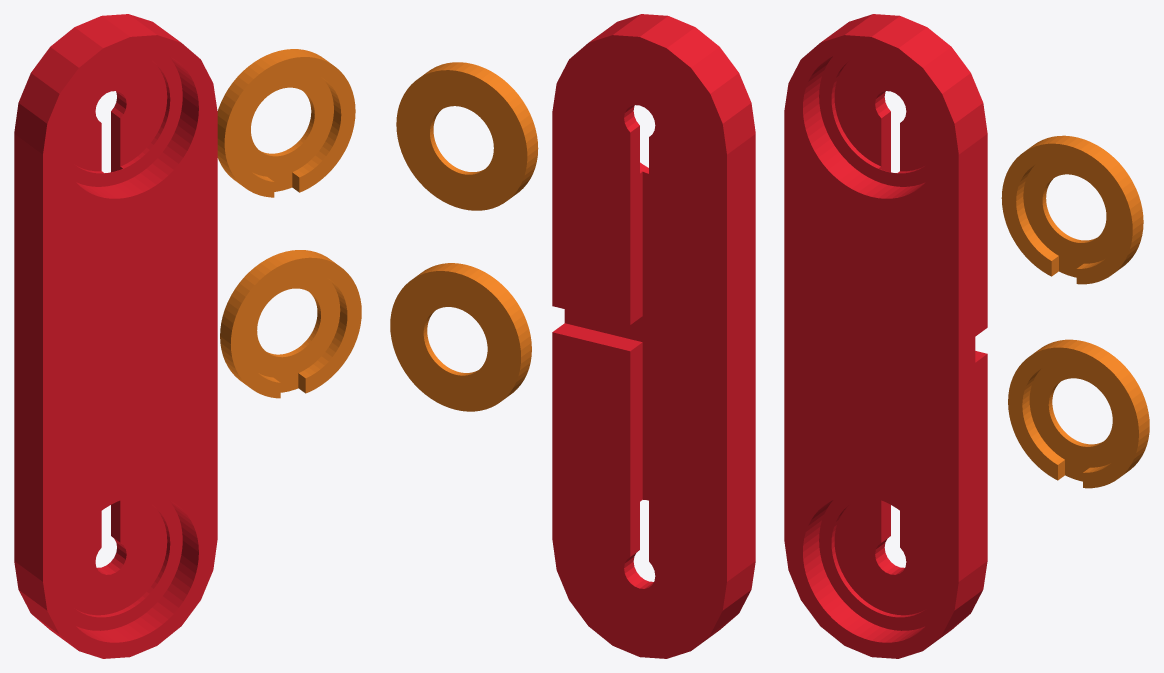
Rendered from tinker.obj.
3 renders of one model, left to right at view 1: azimuth 30°, elevation 25°; view 2: azimuth 150°, elevation 25°; view 3: azimuth 330°, elevation 25°, orthographic.
Visible parts, largest first — view 1: group_0_15277357, group_0_16089887; view 2: group_0_15277357, group_0_16089887; view 3: group_0_15277357, group_0_16089887.
Part boxes in pixels (x1,y1,x2,y2): group_0_15277357: (14, 14, 217, 658); group_0_16089887: (217, 49, 361, 398); group_0_15277357: (552, 14, 755, 658); group_0_16089887: (390, 62, 538, 411); group_0_15277357: (784, 14, 987, 658); group_0_16089887: (1001, 135, 1149, 488).
Size of the model in its own units: 54 by 95 by 8.
